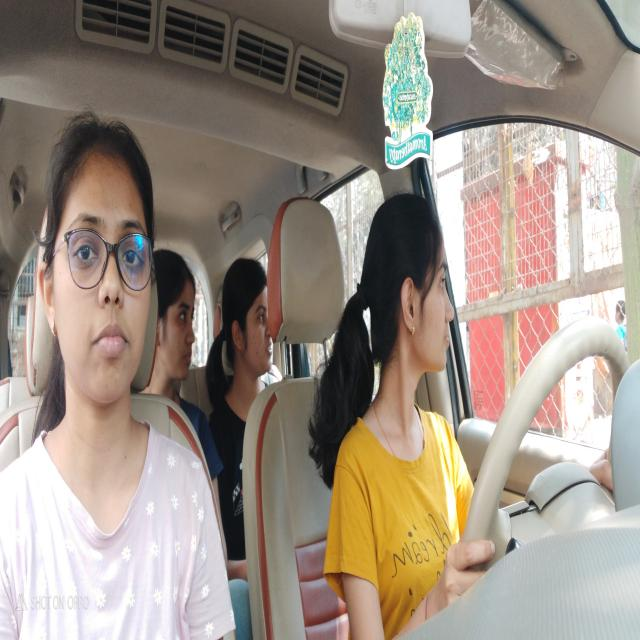LeftRight: (364, 184, 459, 397)
person: (33, 107, 162, 420), (218, 252, 276, 390), (156, 238, 201, 395)
